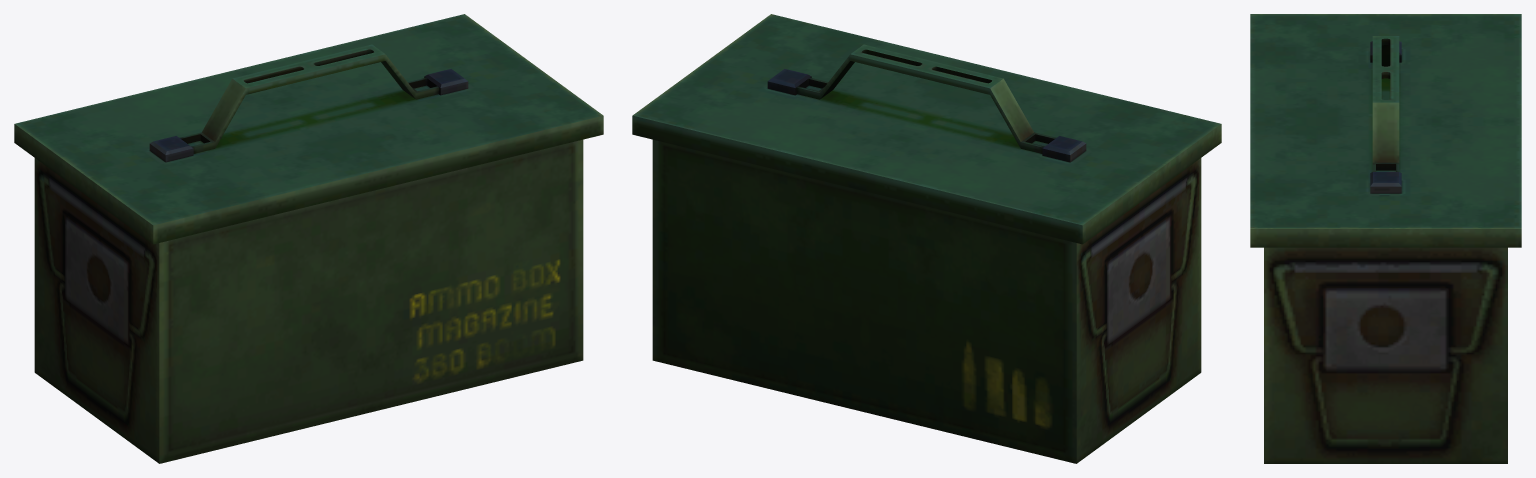
File: ammobox_low.glb
The picture shows the model from 3 angles, left to right: view 1: azimuth 30°, elevation 25°; view 2: azimuth 150°, elevation 25°; view 3: azimuth 270°, elevation 25°; orthographic projection. The views are drawn at different scales.
Parts seen in each view (by area): view 1: ammobox_low, ammoboxup_low; view 2: ammobox_low, ammoboxup_low; view 3: ammoboxup_low, ammobox_low.
Boxes of the visible parts, x1=… form: ammobox_low: x1=34, y1=139, x2=583, y2=463; ammoboxup_low: x1=14, y1=14, x2=603, y2=244; ammobox_low: x1=652, y1=139, x2=1201, y2=463; ammoboxup_low: x1=632, y1=14, x2=1221, y2=244; ammoboxup_low: x1=1250, y1=14, x2=1521, y2=247; ammobox_low: x1=1264, y1=247, x2=1507, y2=463.
Bounding box in the file's own units: 0.2295 × 0.1462 × 0.1225.
Materials: 1 (1 with a texture image).
